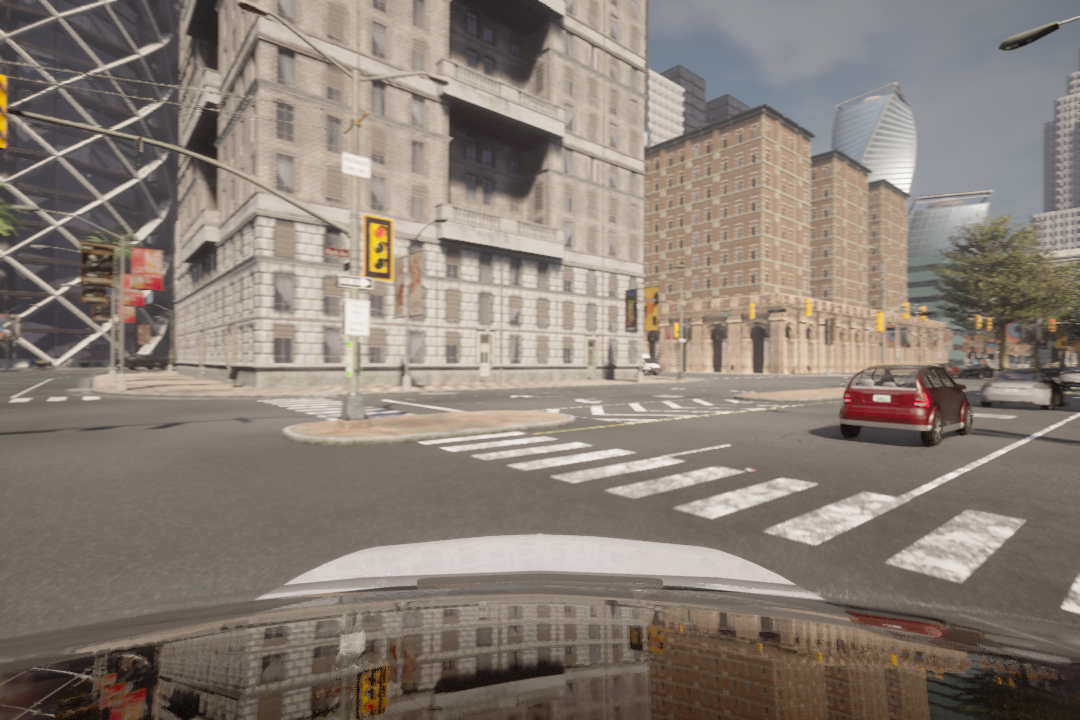TrafficLight: (367, 219, 393, 282)
walkside: (421, 441, 1080, 611), (259, 400, 414, 420)
